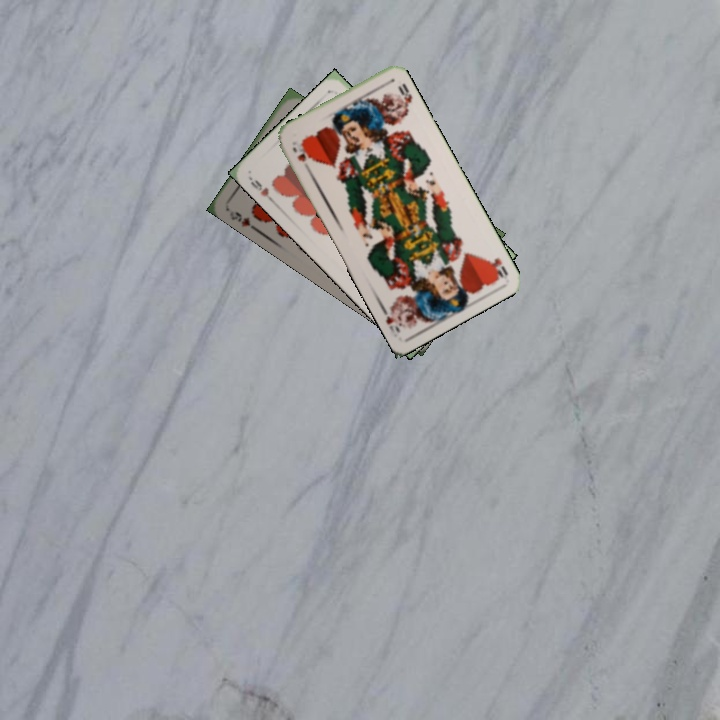H9: (245, 173, 277, 206), (225, 207, 260, 234)
HO: (485, 254, 510, 281), (288, 140, 311, 164)
